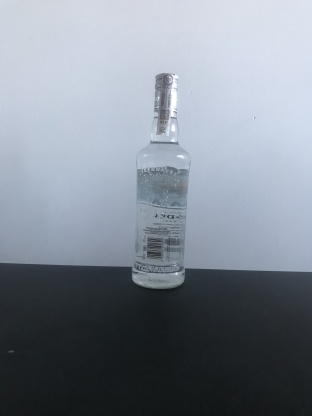nakretka: (152, 69, 180, 114)
